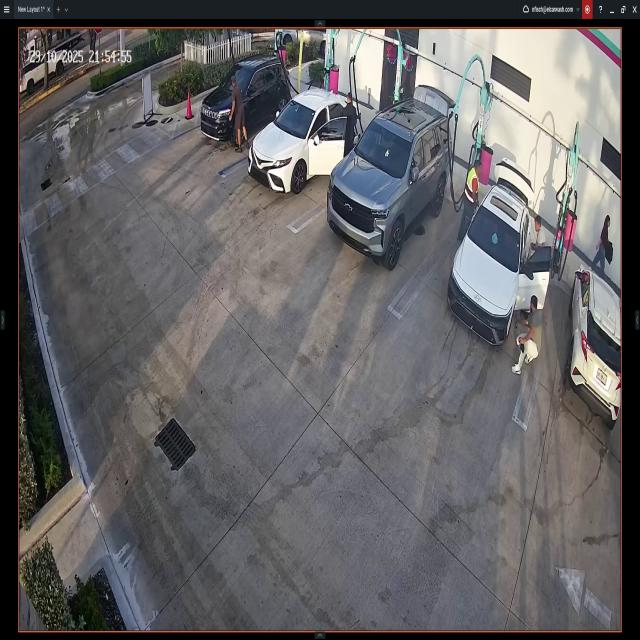Car: (324, 86, 449, 264), (448, 159, 551, 348), (250, 89, 360, 185), (568, 262, 622, 423), (198, 54, 290, 141)
